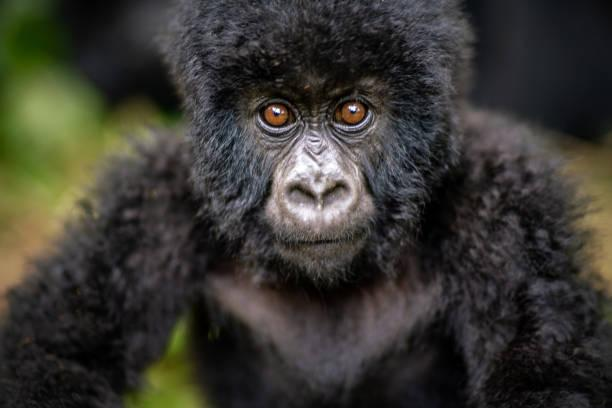goriile_montagne: (18, 1, 612, 408)
